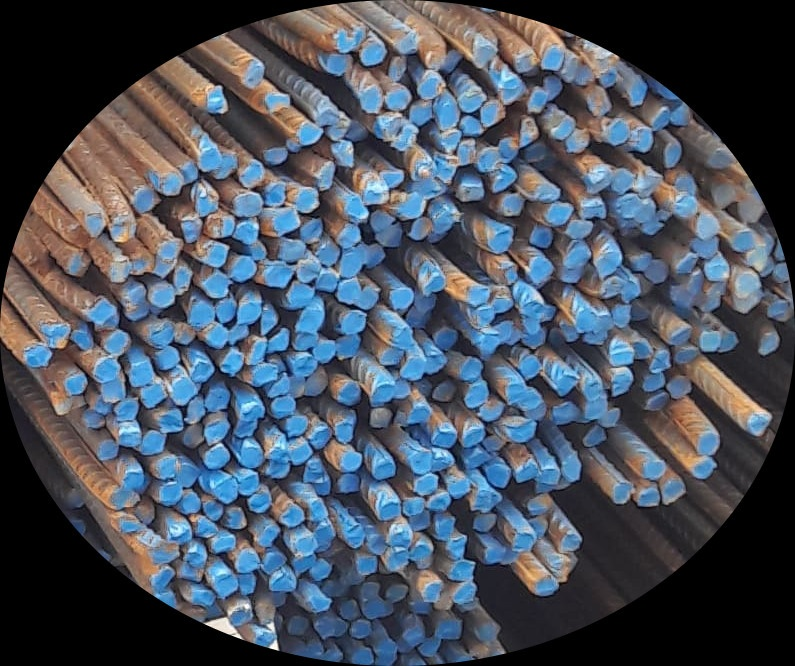dipstick: (429, 198, 462, 223), (170, 376, 197, 406), (436, 95, 459, 130), (636, 169, 661, 199), (473, 37, 496, 69), (133, 187, 160, 214), (297, 306, 323, 334), (110, 213, 135, 242), (203, 273, 230, 299), (141, 382, 167, 409), (205, 386, 231, 413), (336, 380, 362, 407), (205, 417, 230, 445), (315, 239, 340, 267), (44, 323, 72, 348), (233, 193, 262, 217), (23, 343, 52, 367), (213, 476, 238, 503), (705, 254, 730, 281), (134, 494, 155, 526), (264, 263, 293, 286), (338, 311, 367, 334), (360, 84, 383, 113), (588, 87, 611, 116), (712, 180, 735, 209), (662, 477, 685, 506), (506, 420, 536, 442), (94, 357, 120, 382), (232, 257, 257, 283), (273, 209, 298, 235), (375, 221, 401, 246), (158, 170, 182, 197), (240, 161, 264, 188), (238, 444, 265, 468), (336, 333, 360, 360), (490, 226, 514, 253), (337, 277, 360, 305), (206, 86, 228, 115), (150, 542, 180, 563), (117, 422, 142, 447), (158, 481, 183, 506), (336, 223, 361, 248), (412, 155, 437, 180), (735, 271, 760, 296), (65, 251, 90, 276), (89, 298, 115, 322), (214, 572, 238, 598), (214, 153, 237, 180), (287, 285, 314, 308), (417, 77, 444, 100), (696, 212, 719, 239), (244, 60, 264, 91), (181, 215, 203, 243), (206, 216, 234, 238), (738, 195, 760, 223), (500, 75, 521, 104), (295, 188, 320, 212), (190, 302, 214, 327), (114, 398, 139, 422), (155, 456, 180, 480), (204, 445, 229, 469), (247, 489, 271, 514), (276, 239, 306, 259), (387, 522, 411, 547), (401, 355, 425, 380), (377, 114, 401, 139), (493, 167, 517, 192), (586, 167, 611, 191), (610, 341, 634, 366), (553, 401, 578, 425), (151, 321, 174, 347), (130, 360, 153, 386), (158, 410, 184, 433), (332, 141, 355, 167), (264, 433, 286, 460), (109, 488, 138, 508), (238, 300, 262, 324), (177, 464, 201, 488), (529, 258, 553, 282), (459, 357, 483, 381), (155, 348, 180, 371), (300, 218, 323, 243), (339, 252, 362, 277), (304, 460, 329, 483), (458, 89, 483, 112), (597, 250, 620, 275), (291, 355, 317, 377), (362, 39, 384, 65), (611, 369, 633, 395), (270, 571, 297, 592), (177, 563, 205, 583), (629, 76, 647, 107), (298, 123, 322, 146), (205, 244, 228, 268), (151, 284, 175, 307), (65, 371, 88, 395), (104, 331, 128, 354), (204, 326, 228, 349), (432, 450, 455, 474), (584, 396, 608, 419), (486, 466, 510, 489), (168, 522, 193, 544), (410, 101, 432, 126), (482, 102, 504, 127), (400, 196, 425, 218), (466, 382, 488, 407), (410, 544, 432, 569), (306, 370, 327, 396), (335, 418, 356, 444), (564, 246, 590, 267), (576, 308, 597, 334), (317, 161, 335, 191), (186, 396, 205, 424), (520, 116, 539, 144), (224, 506, 247, 529), (289, 440, 312, 463), (310, 427, 333, 450), (566, 130, 589, 153), (670, 283, 693, 306), (124, 284, 146, 308), (101, 379, 125, 401), (143, 431, 165, 455), (221, 351, 243, 375), (253, 364, 277, 386), (263, 551, 287, 573), (386, 548, 408, 572), (386, 88, 410, 110), (697, 431, 719, 455), (260, 302, 277, 333), (85, 212, 106, 237), (265, 93, 290, 114), (328, 115, 349, 140), (197, 190, 218, 215), (158, 238, 183, 259), (298, 257, 319, 282), (437, 618, 462, 639), (437, 157, 457, 183), (475, 623, 501, 643), (544, 75, 563, 102), (412, 181, 446, 196), (191, 360, 214, 382), (272, 396, 295, 418), (237, 549, 259, 572), (282, 505, 304, 528), (328, 53, 351, 75), (409, 218, 431, 241), (674, 172, 697, 194), (674, 196, 697, 218), (435, 327, 457, 350), (414, 475, 437, 497), (528, 493, 551, 515), (750, 413, 772, 436), (216, 299, 237, 323), (151, 568, 175, 589), (233, 418, 257, 439), (268, 374, 289, 398), (234, 222, 258, 243), (314, 339, 335, 363), (344, 524, 365, 548), (347, 196, 368, 220), (548, 203, 572, 224), (542, 45, 563, 69), (613, 169, 634, 193), (693, 237, 717, 258), (668, 377, 692, 398), (369, 211, 394, 231), (365, 243, 385, 268), (553, 114, 573, 139), (536, 183, 561, 203), (609, 120, 629, 145), (447, 536, 467, 561), (641, 460, 666, 480), (710, 150, 736, 169), (581, 200, 608, 218), (465, 452, 492, 470), (286, 416, 308, 438), (314, 522, 336, 544), (199, 147, 220, 170), (195, 518, 218, 539), (268, 329, 289, 352), (373, 459, 396, 480), (433, 427, 456, 448), (410, 451, 431, 474), (390, 288, 413, 309), (477, 148, 498, 171), (515, 50, 536, 73), (618, 195, 639, 218), (646, 261, 669, 282), (477, 331, 498, 354), (519, 355, 540, 378), (643, 372, 666, 393), (427, 492, 450, 513), (447, 477, 470, 498), (583, 426, 606, 447), (535, 575, 558, 596), (265, 182, 285, 206), (238, 472, 258, 496), (522, 328, 546, 348), (601, 278, 625, 298), (450, 561, 474, 581), (691, 458, 715, 478), (293, 333, 318, 352), (567, 220, 592, 239), (749, 244, 767, 270), (71, 329, 93, 350), (341, 452, 363, 473), (372, 381, 394, 402), (334, 31, 355, 53), (502, 193, 523, 215), (423, 273, 445, 294), (732, 230, 754, 251), (557, 374, 578, 396), (82, 410, 105, 430), (531, 224, 551, 247), (631, 339, 654, 359), (432, 382, 455, 402), (480, 401, 503, 421), (514, 463, 537, 483), (435, 517, 455, 540), (453, 583, 476, 603), (529, 87, 546, 114), (266, 461, 290, 480), (292, 553, 316, 572), (499, 138, 518, 162), (583, 377, 602, 401), (458, 139, 476, 164), (634, 127, 652, 152), (613, 304, 631, 329), (240, 403, 266, 420), (258, 524, 279, 545), (370, 407, 391, 428), (315, 105, 337, 125), (131, 254, 153, 274), (184, 425, 204, 447), (316, 271, 338, 291), (296, 535, 318, 555), (338, 473, 360, 493), (362, 599, 384, 619), (397, 327, 417, 349), (461, 115, 483, 135), (474, 306, 494, 328), (462, 427, 484, 447), (513, 532, 535, 552), (611, 482, 631, 504), (264, 147, 287, 166), (293, 484, 316, 503), (474, 514, 497, 533), (110, 258, 128, 282), (212, 535, 236, 553), (253, 629, 277, 647), (307, 595, 331, 613), (471, 488, 489, 512), (374, 640, 398, 658), (389, 56, 406, 81), (174, 322, 194, 343), (98, 439, 118, 460), (288, 615, 308, 636), (379, 501, 400, 521), (426, 50, 446, 71), (426, 353, 446, 374), (505, 383, 526, 403), (767, 300, 788, 320), (230, 606, 252, 625), (316, 615, 335, 637), (364, 185, 386, 204), (398, 31, 417, 53), (562, 459, 581, 481), (636, 488, 658, 507), (182, 491, 200, 514), (380, 347, 404, 364), (671, 102, 688, 126), (645, 393, 669, 410), (733, 299, 760, 314), (155, 259, 175, 279), (190, 591, 215, 607), (248, 339, 264, 364), (460, 184, 485, 200), (650, 351, 670, 371), (403, 625, 423, 645), (204, 499, 223, 520), (402, 498, 424, 516), (289, 373, 304, 399), (560, 267, 584, 283), (257, 603, 276, 623), (312, 560, 331, 580), (358, 556, 377, 576), (340, 600, 360, 619), (526, 143, 545, 163), (250, 240, 268, 261), (310, 499, 328, 520), (350, 620, 371, 638), (409, 405, 430, 423), (382, 170, 403, 188), (468, 287, 489, 305), (676, 254, 697, 272), (523, 299, 544, 317), (701, 331, 719, 352), (538, 467, 559, 485), (423, 581, 441, 602), (560, 533, 581, 551), (665, 142, 680, 167), (385, 584, 407, 601), (361, 287, 378, 309), (176, 267, 192, 290), (671, 326, 690, 345), (601, 409, 620, 428), (599, 67, 617, 87), (122, 471, 143, 488), (239, 573, 256, 594), (577, 65, 594, 86), (720, 332, 737, 353), (368, 535, 386, 554), (442, 132, 459, 152), (501, 263, 518, 283), (652, 108, 669, 128), (637, 202, 654, 222), (564, 55, 576, 83), (689, 272, 705, 293), (699, 295, 720, 311), (759, 332, 773, 356), (675, 349, 699, 363), (182, 162, 197, 184), (497, 321, 512, 343), (560, 323, 578, 341), (626, 279, 640, 302), (186, 550, 206, 566), (597, 313, 613, 333), (583, 331, 607, 344), (268, 356, 286, 373), (362, 582, 379, 600), (492, 298, 512, 313), (483, 547, 504, 561), (394, 379, 409, 398), (632, 254, 651, 269), (775, 263, 788, 284), (484, 437, 505, 450), (523, 317, 539, 333), (706, 281, 725, 294), (544, 306, 555, 321)
